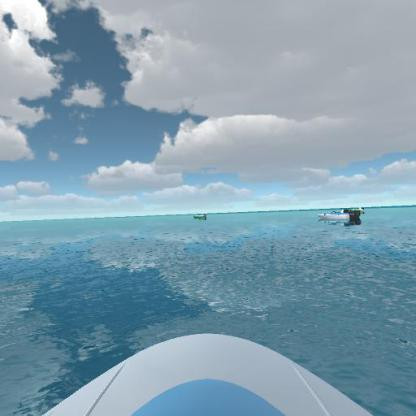usv0: (346, 203, 366, 216), (193, 212, 211, 221)
usv1: (317, 209, 363, 230)
